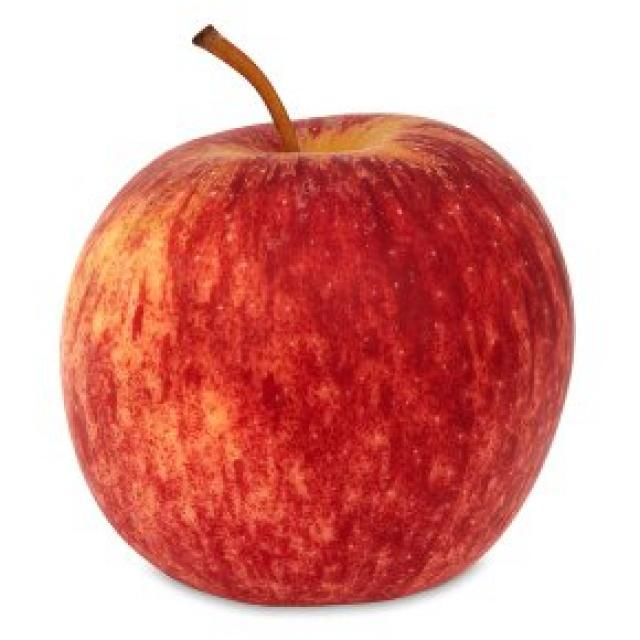Apple: (50, 20, 582, 612)
